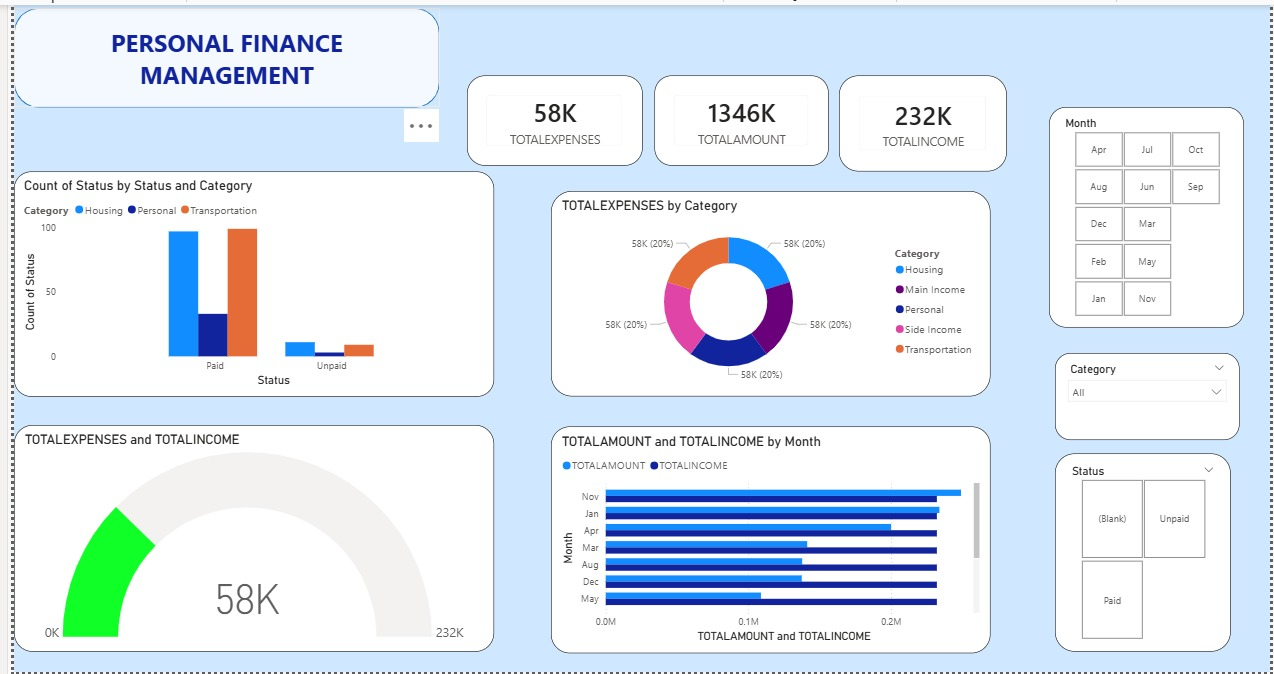

Layout of this report page (visuals, bound fields, positions):
{"tool":"powerbi","page":{"name":"DASHBOARD","canvas":[1606,853],"ordinal":0},"visuals":[{"type":"cardVisual","fields":{"Data":["Main Data.TOTALEXPENSES"]},"box":[579.3,90.2,224.4,115.1],"z":0},{"type":"cardVisual","fields":{"Data":["Main Data.TOTALINCOME"]},"box":[1055.1,90.2,214.9,122.8],"z":1000},{"type":"clusteredColumnChart","fields":{"Category":["Main Data.Status"],"Y":["CountNonNull(Main Data.Status)"],"Series":["Main Data.Category"]},"box":[0,212.9,613.9,287.8],"z":2000},{"type":"gauge","fields":{"Y":["Main Data.TOTALEXPENSES"],"MaxValue":["Main Data.TOTALINCOME"]},"box":[0,537.1,613.9,289.7],"z":3000},{"type":"donutChart","fields":{"Series":["Main Data.Category"],"Y":["Main Data.TOTALEXPENSES"]},"box":[686.8,237.9,562.1,262.8],"z":4000},{"type":"clusteredBarChart","fields":{"Category":["Main Data.Month"],"Y":["Main Data.TOTALAMOUNT","Main Data.TOTALINCOME"]},"box":[686.8,539.1,562.1,289.7],"z":5000},{"type":"shape","box":[0,3.8,544.3,127.5],"z":6000},{"type":"slicer","fields":{"Values":["Main Data.Month"]},"box":[1323.7,130.4,249.4,282],"z":7000},{"type":"slicer","fields":{"Values":["Main Data.Category"]},"box":[1331.3,445.1,236,111.3],"z":8000},{"type":"slicer","fields":{"Values":["Main Data.Status"]},"box":[1331.3,573.6,224.4,253.2],"z":9000},{"type":"cardVisual","fields":{"Data":["Main Data.TOTALAMOUNT"]},"box":[819.1,90.2,222.5,115.1],"z":10000}]}

Visuals, with their boxes in screenshot pixels (x1, y1, x2, y2), scaled from the page's 1606x853 canvas onto the 1274x674 screenshot:
cardVisual - Main Data.TOTALEXPENSES: x1=460, y1=71, x2=638, y2=162
cardVisual - Main Data.TOTALINCOME: x1=837, y1=71, x2=1007, y2=168
clusteredColumnChart - Main Data.Status x CountNonNull(Main Data.Status): x1=0, y1=168, x2=487, y2=396
gauge - Main Data.TOTALEXPENSES x Main Data.TOTALINCOME: x1=0, y1=424, x2=487, y2=653
donutChart - Main Data.Category x Main Data.TOTALEXPENSES: x1=545, y1=188, x2=991, y2=396
clusteredBarChart - Main Data.Month x Main Data.TOTALAMOUNT: x1=545, y1=426, x2=991, y2=655
shape: x1=0, y1=3, x2=432, y2=104
slicer - Main Data.Month: x1=1050, y1=103, x2=1248, y2=326
slicer - Main Data.Category: x1=1056, y1=352, x2=1243, y2=440
slicer - Main Data.Status: x1=1056, y1=453, x2=1234, y2=653
cardVisual - Main Data.TOTALAMOUNT: x1=650, y1=71, x2=826, y2=162
